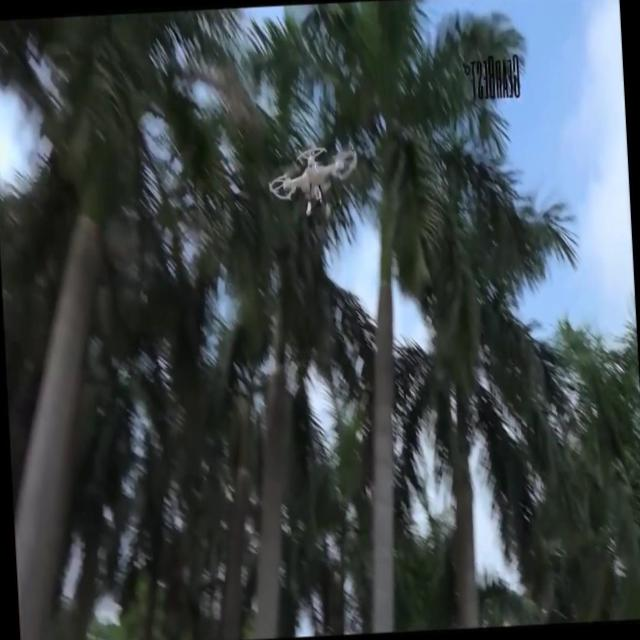drone: (266, 143, 362, 220)
